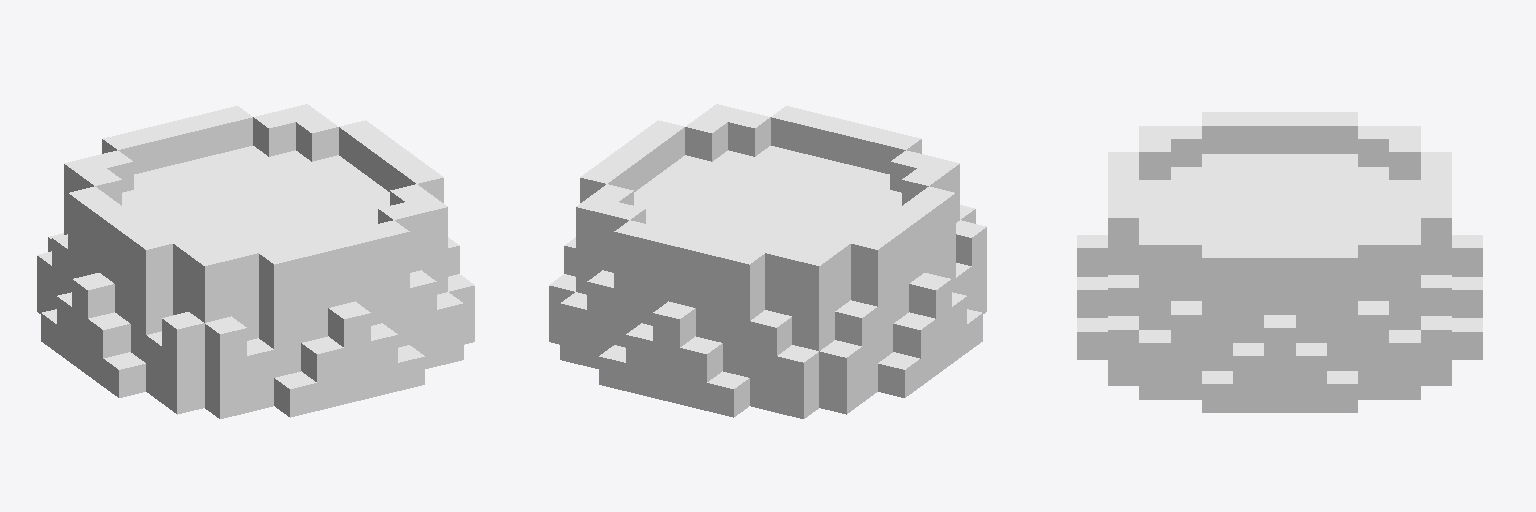
Rendered from PolomaneTree.obj.
3 renders of one model, left to right at view 1: azimuth 30°, elevation 25°; view 2: azimuth 150°, elevation 25°; view 3: azimuth 270°, elevation 25°, orthographic.
Visible parts, largest first — view 1: object 1; view 2: object 1; view 3: object 1.
Boxes of the visible parts, x1,y1,x2,y2 form: object 1: [37, 104, 474, 418]; object 1: [549, 104, 986, 418]; object 1: [1077, 112, 1482, 412].
Size of the model in its own units: 1.3 by 0.5 by 1.3.